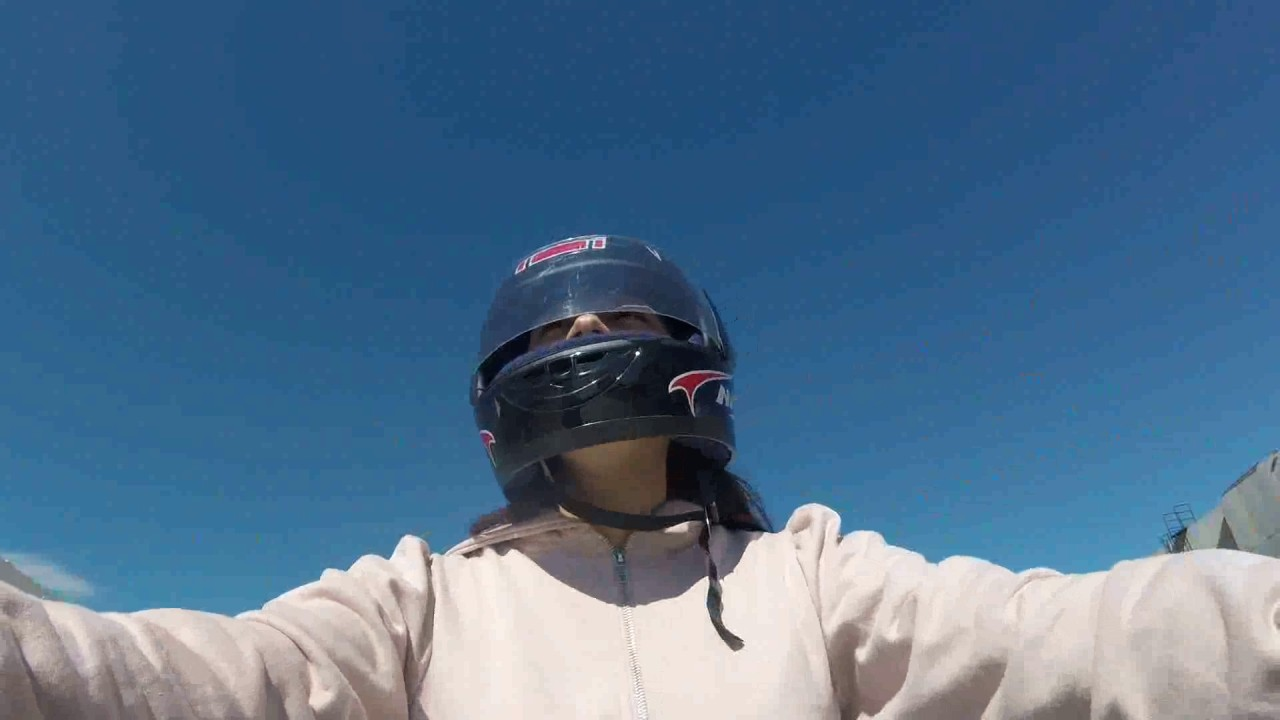With Helmet: (454, 221, 743, 539)
